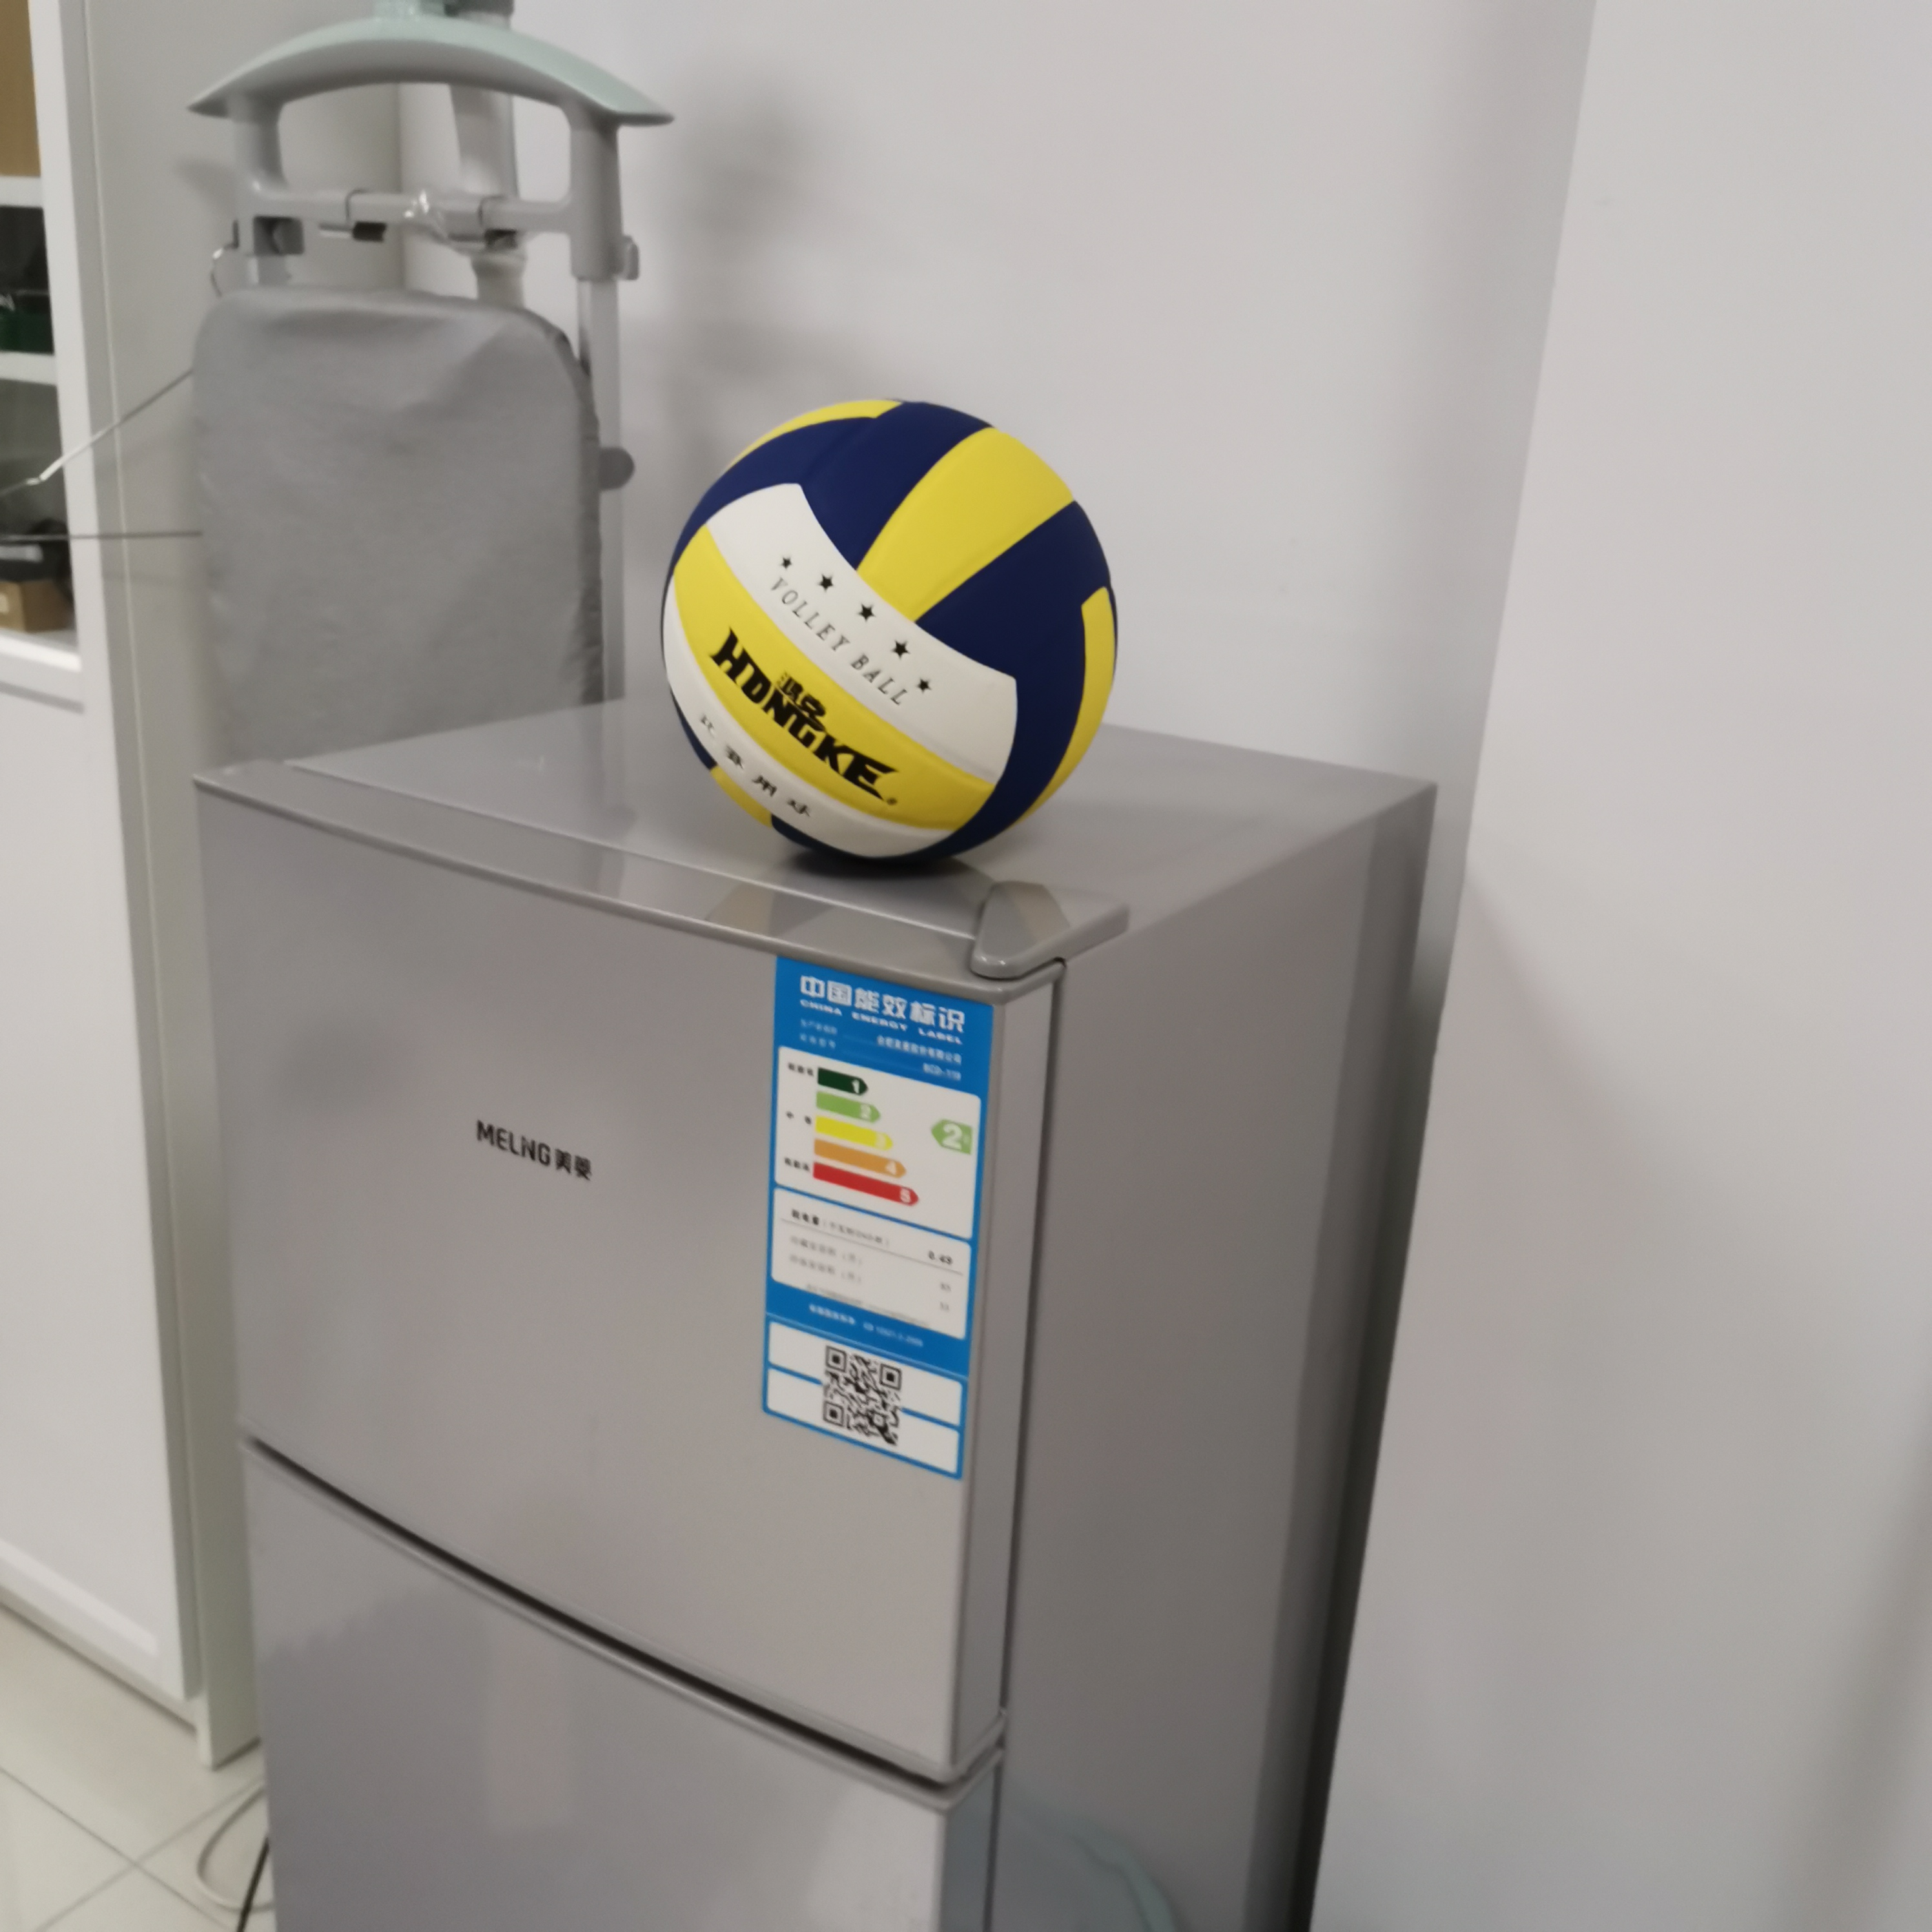volleyball: (662, 395, 1118, 869)
